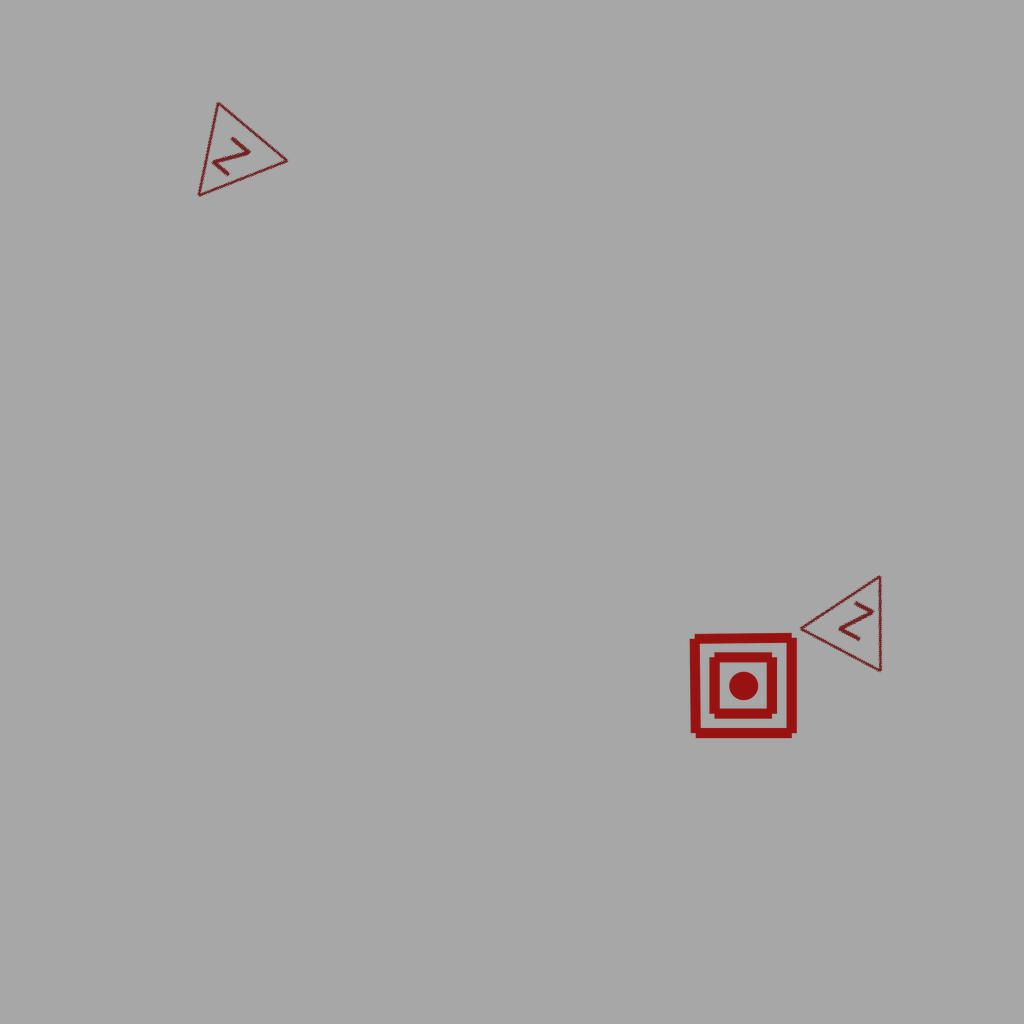NAM-Nichtautomatischer_Melder: (687, 629, 800, 742)
Zimmersignalleuchte: (157, 94, 297, 234), (792, 545, 926, 681)
